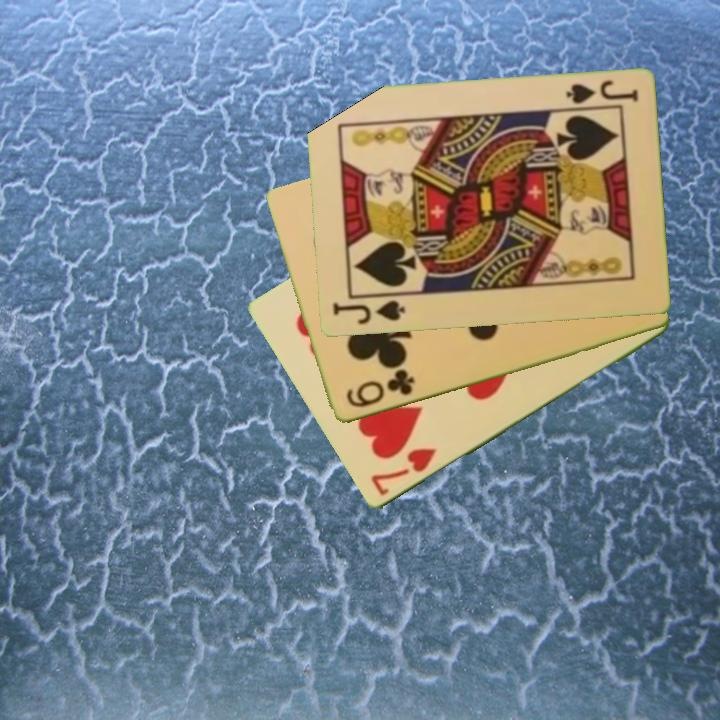6c: (342, 367, 418, 411)
7h: (367, 445, 440, 499)
Js: (329, 297, 408, 328), (562, 77, 641, 108)
